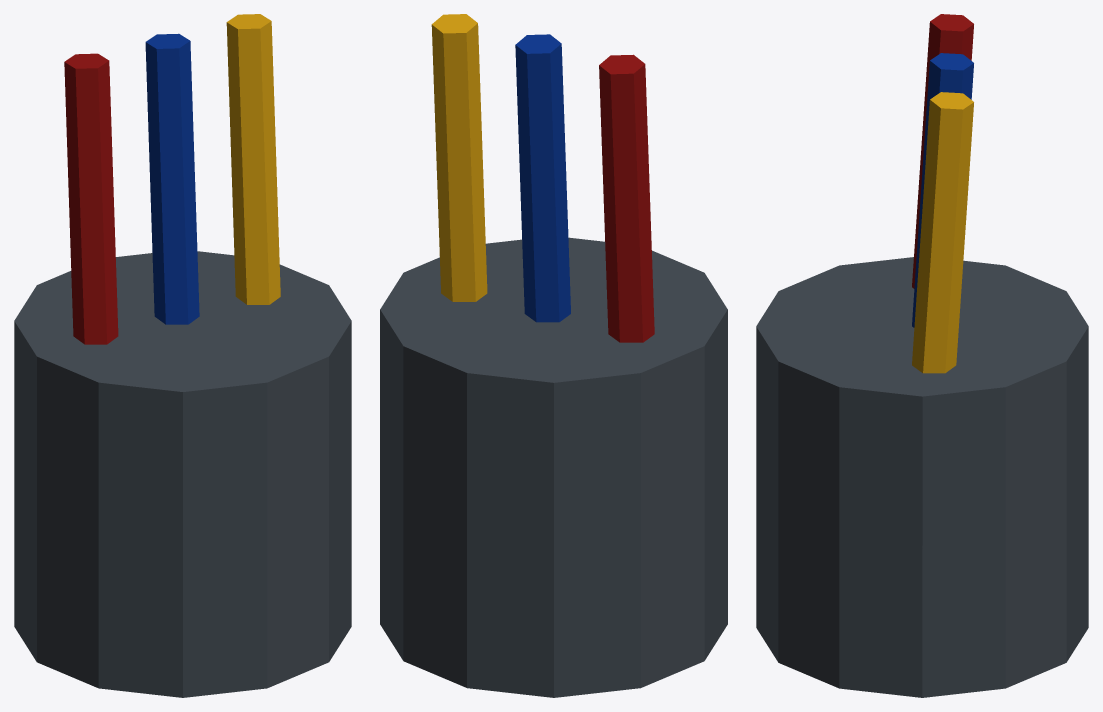
Rendered from PenHolder.fbx.
3 renders of one model, left to right at view 1: azimuth 30°, elevation 25°; view 2: azimuth 150°, elevation 25°; view 3: azimuth 270°, elevation 25°, orthographic. The views are drawn at different scales.
Visible parts, largest first — view 1: PenHolder; view 2: PenHolder; view 3: PenHolder.
Boxes of the visible parts, x1,y1,x2,y2 form: PenHolder: [14, 14, 351, 697]; PenHolder: [380, 14, 727, 697]; PenHolder: [756, 14, 1088, 697].
Size of the model in its own units: 9 by 16.94 by 9.
Materials: 1 (1 with a texture image).
